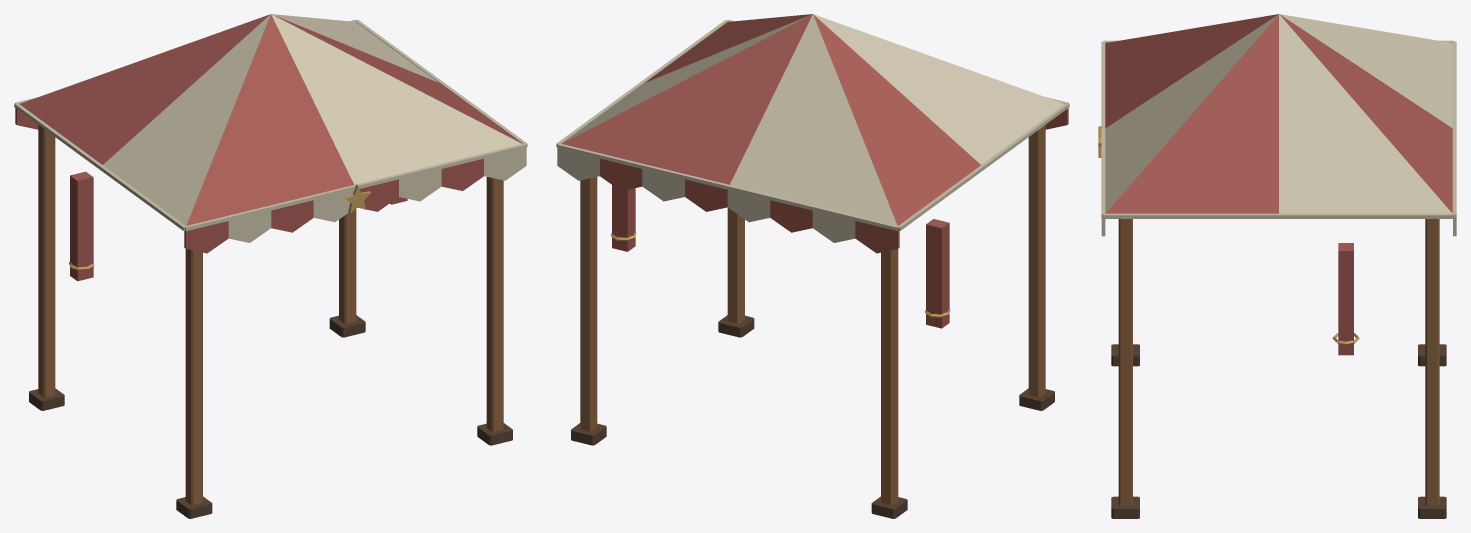
Rendered from market_tent_b.glb.
The picture shows the model from 3 angles, left to right: view 1: azimuth 30°, elevation 25°; view 2: azimuth 150°, elevation 25°; view 3: azimuth 270°, elevation 25°; orthographic projection. The views are drawn at different scales.
Parts seen in each view (by area): view 1: geometry; view 2: geometry; view 3: geometry.
Part boxes in pixels (x1,y1,x2,y2): geometry: (14,14,527,518); geometry: (556,14,1069,518); geometry: (1098,14,1456,518).
Bounding box in the file's own units: 2.59 × 2.92 × 2.25.
